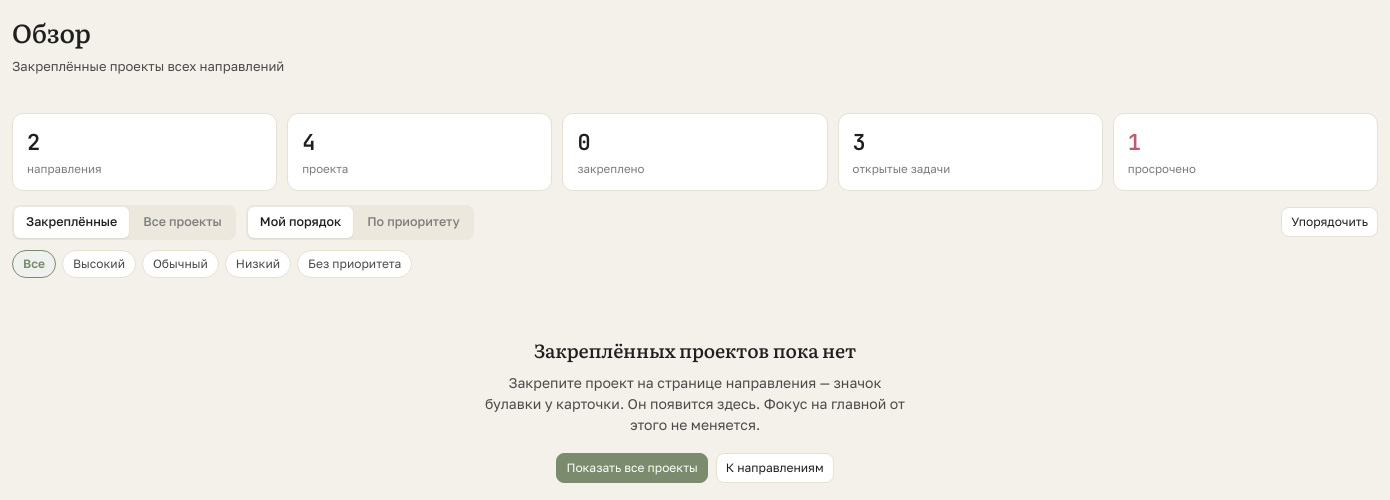
Test: обзор › без закреплённых — объясняет и предлагает все проекты
Expected: the heading "Закреплённых проектов пока нет" is shown, x1=534 y1=336 x2=856 y2=364
Click the button "Показать все проекты" at (632, 468), box x1=556 y1=453 x2=708 y2=483
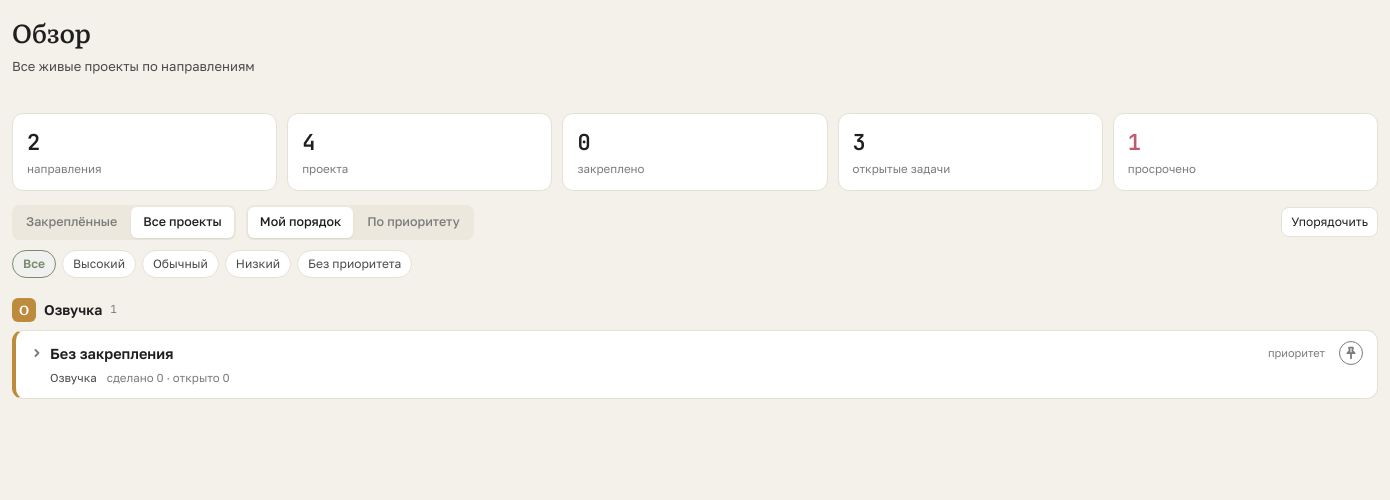
Expected: the text "Без закрепления" is shown, x1=50 y1=342 x2=174 y2=364
